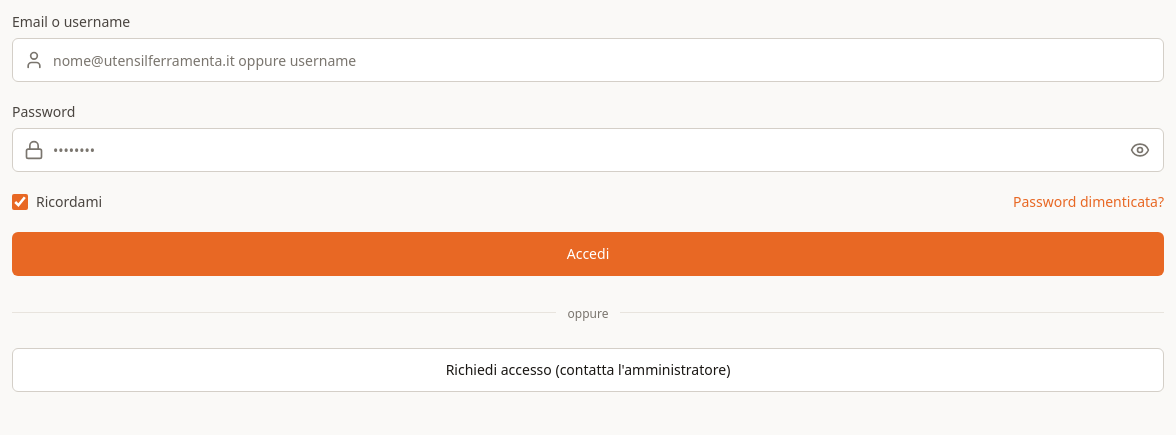
it: LoginForm › blocks submit and shows a validation message for an empty password
This screenshot has width=1176, height=435.
Type "mario@rossi.it" into the field labelled "Email o username" at (588, 60), box [12, 38, 1164, 82]
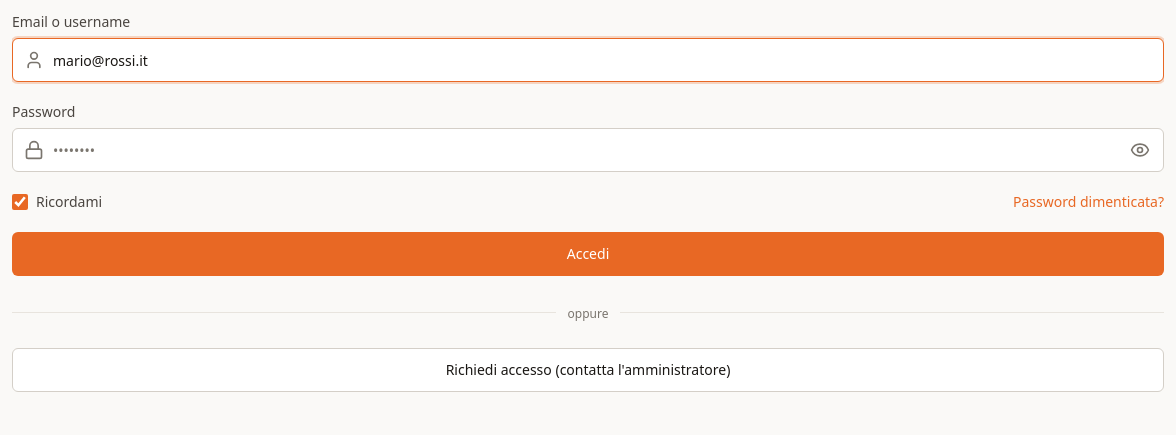
Click the button "Accedi" at (588, 254), box [12, 232, 1164, 276]
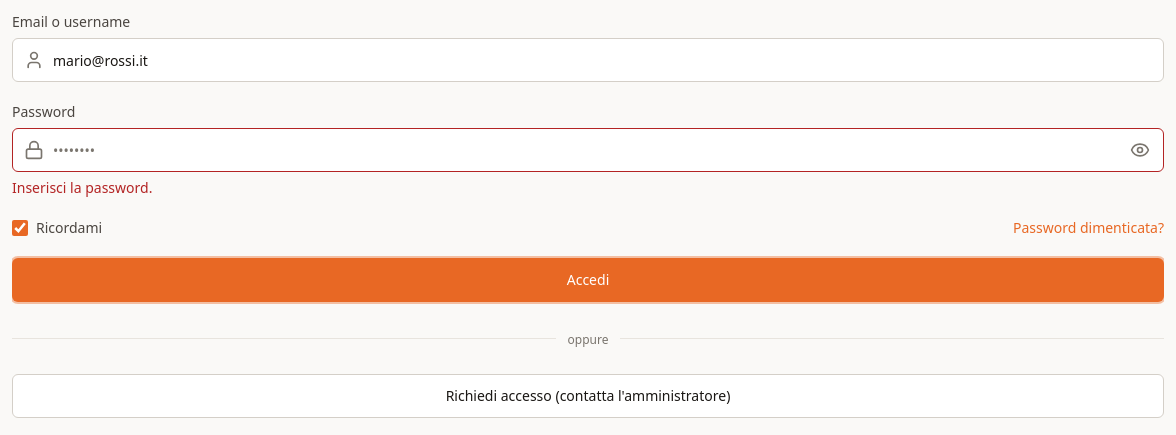
expect the text "Inserisci la password." is shown: met, box [12, 178, 152, 197]
